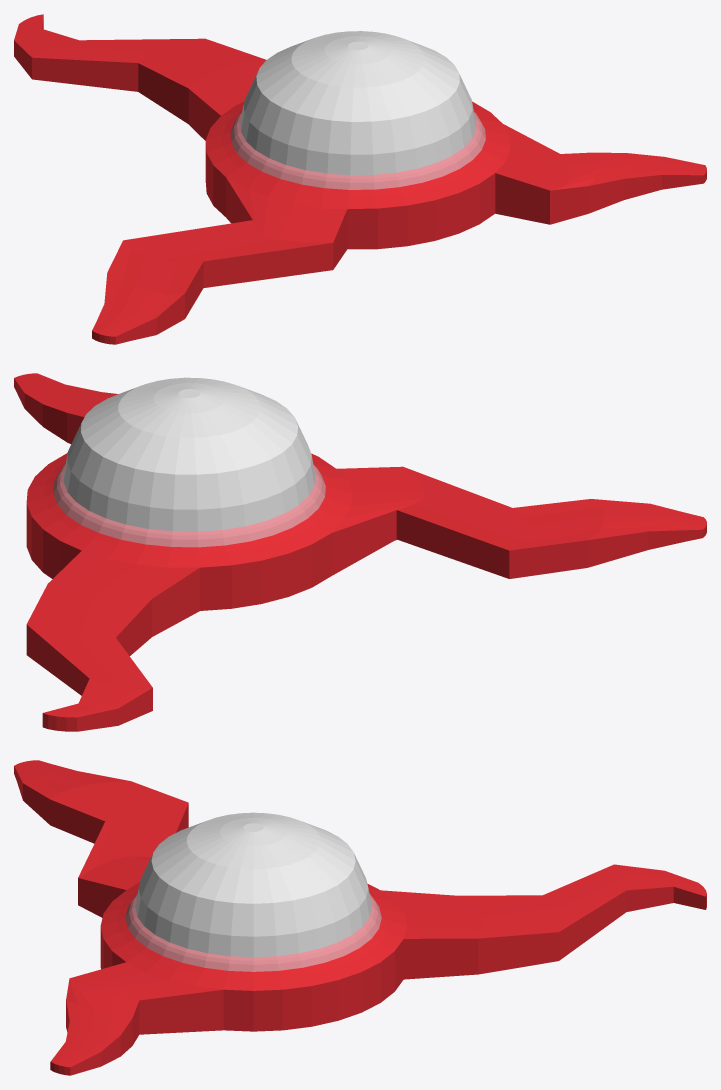
File: Cyst.fbx
3 views of the same model, one above another, from view 1: azimuth 30°, elevation 25°; view 2: azimuth 150°, elevation 25°; view 3: azimuth 270°, elevation 25° (orthographic). The views are drawn at different scales.
Visible parts, largest first — view 1: Circle; view 2: Circle; view 3: Circle.
Boxes of the visible parts, bbox=[...] form: Circle: bbox=[14, 14, 706, 344]; Circle: bbox=[14, 373, 706, 731]; Circle: bbox=[14, 760, 706, 1075].
Bounding box in the file's own units: 514 × 540 × 114.
